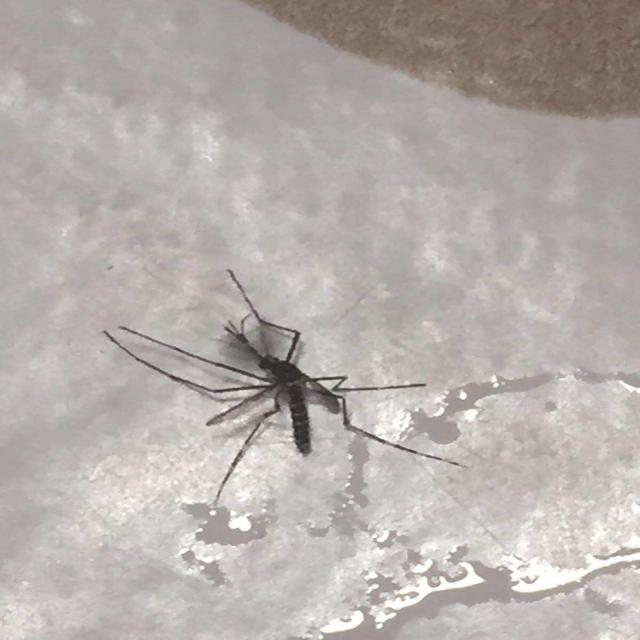albopictus: (92, 247, 482, 521)
